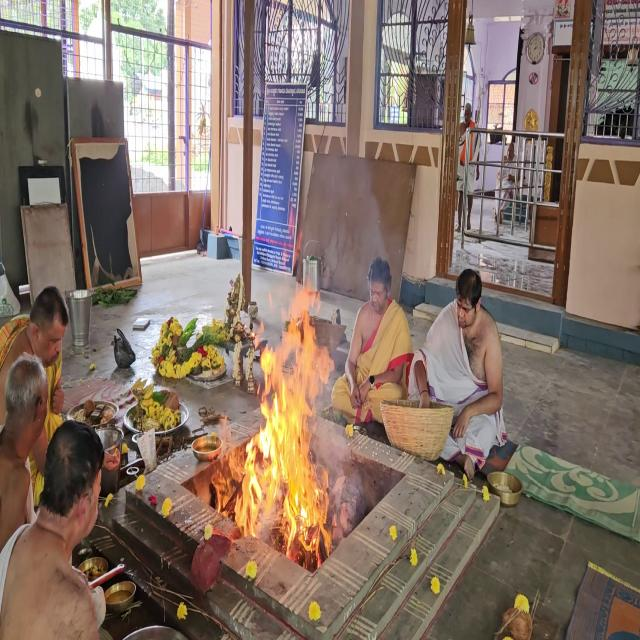fire: (210, 267, 344, 567)
